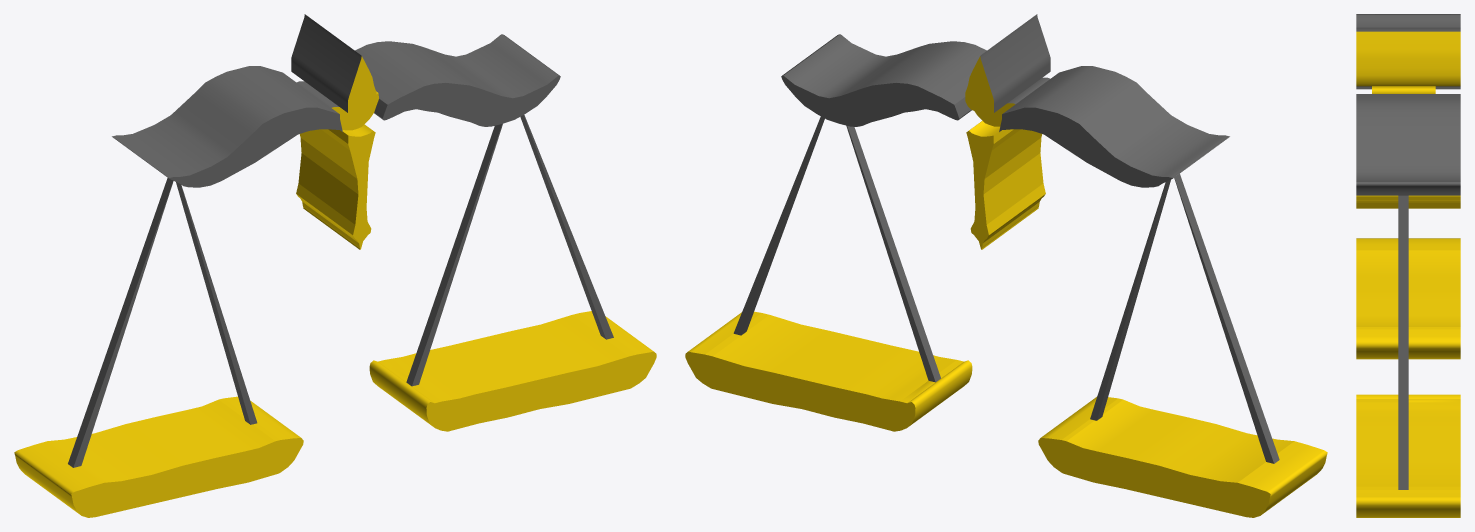
The model's file is libra.obj.
3 renders of one model, left to right at view 1: azimuth 30°, elevation 25°; view 2: azimuth 150°, elevation 25°; view 3: azimuth 270°, elevation 25°, orthographic. The views are drawn at different scales.
Visible parts, largest first — view 1: libra; view 2: libra; view 3: libra.
Part boxes in pixels (x1,y1,x2,y2): libra: (14, 14, 656, 517); libra: (685, 14, 1327, 517); libra: (1356, 14, 1460, 517).
Bounding box in the file's own units: 3.75 × 2.44 × 0.6315.
